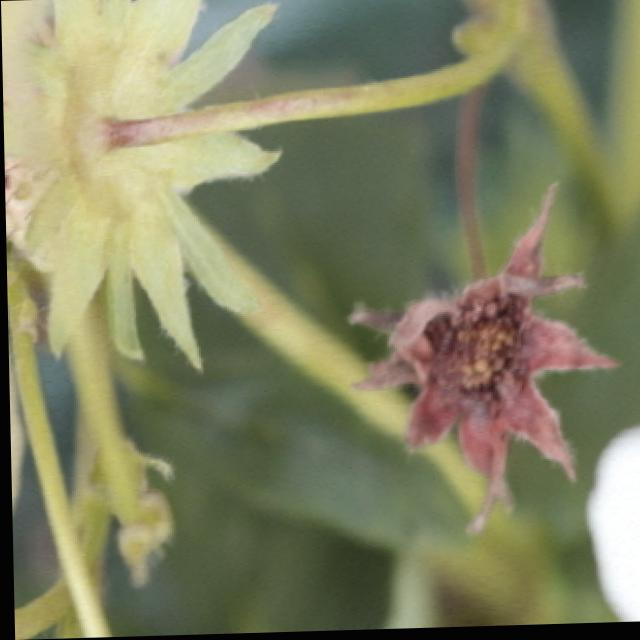Gray Mold: (344, 181, 621, 538)
